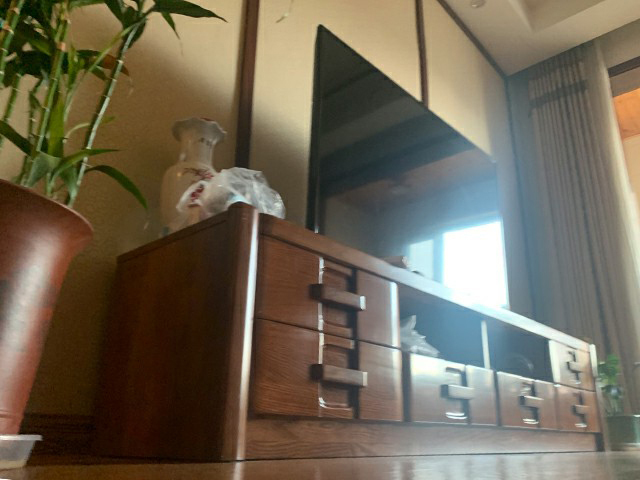cabinet: (87, 201, 614, 463)
